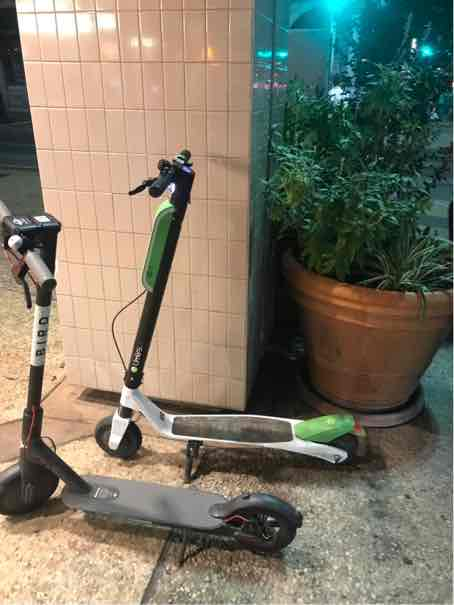scooter: (89, 144, 362, 484)
